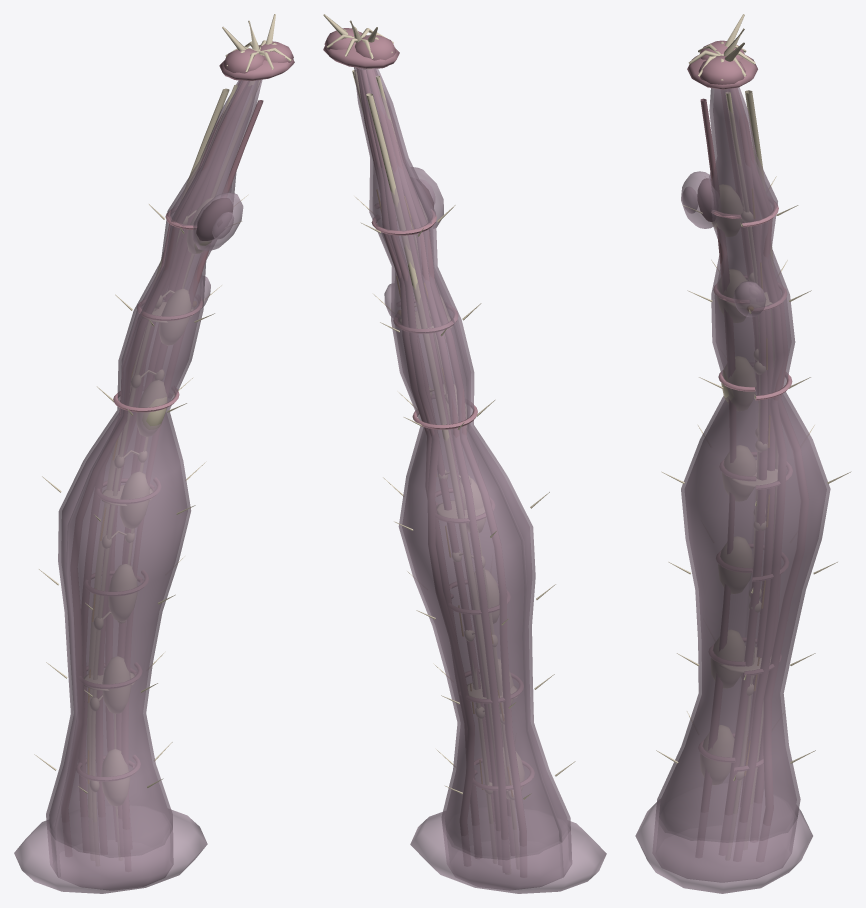
The model's file is gang_remnant.glb.
The picture shows the model from 3 angles, left to right: view 1: azimuth 30°, elevation 25°; view 2: azimuth 150°, elevation 25°; view 3: azimuth 270°, elevation 25°; orthographic projection. The views are drawn at different scales.
Visible parts, largest first — view 1: MEMBRANE_epithelial_shell, MUSCLE, MEMBRANE_root_collar, PRESSURE, VASCULAR_dorsal_channel, NERVE, DIGESTIVE_intake_groove, OCELLUS_cornea, GANGLION, PIGMENT_retinal_cup, CILIUM, TIP_adhesive_disk (+1 smaller); view 2: MEMBRANE_epithelial_shell, MUSCLE, MEMBRANE_root_collar, DIGESTIVE_intake_groove, NERVE, PRESSURE, CILIUM, TIP_adhesive_disk, OCELLUS_cornea, TIP_probing_lobe, COLLAGEN; view 3: MEMBRANE_epithelial_shell, MUSCLE, MEMBRANE_root_collar, PRESSURE, VASCULAR_dorsal_channel, OCELLUS_cornea, NERVE, DIGESTIVE_intake_groove, TIP_probing_lobe.001, STATOCYST_chamber, CILIUM, TIP_adhesive_disk (+3 smaller).
Boxes of the visible parts, bbox=[...] form: MEMBRANE_epithelial_shell: bbox=[46, 79, 262, 890]; MUSCLE: bbox=[61, 80, 251, 822]; MEMBRANE_root_collar: bbox=[14, 809, 207, 893]; PRESSURE: bbox=[101, 198, 212, 806]; VASCULAR_dorsal_channel: bbox=[121, 100, 263, 829]; NERVE: bbox=[91, 80, 260, 822]; DIGESTIVE_intake_groove: bbox=[87, 88, 229, 817]; OCELLUS_cornea: bbox=[192, 192, 243, 250]; GANGLION: bbox=[90, 216, 187, 791]; PIGMENT_retinal_cup: bbox=[196, 198, 233, 240]; CILIUM: bbox=[34, 194, 248, 793]; TIP_adhesive_disk: bbox=[219, 48, 294, 80]; MEMBRANE_epithelial_shell: bbox=[354, 67, 571, 890]; MUSCLE: bbox=[356, 68, 534, 846]; MEMBRANE_root_collar: bbox=[410, 811, 606, 893]; DIGESTIVE_intake_groove: bbox=[366, 93, 498, 792]; NERVE: bbox=[352, 70, 516, 829]; PRESSURE: bbox=[420, 203, 524, 798]; CILIUM: bbox=[354, 196, 575, 799]; TIP_adhesive_disk: bbox=[323, 35, 399, 68]; OCELLUS_cornea: bbox=[411, 167, 443, 227]; TIP_probing_lobe: bbox=[355, 35, 396, 68]; COLLAGEN: bbox=[398, 311, 517, 698]; MEMBRANE_epithelial_shell: bbox=[652, 87, 830, 882]; MUSCLE: bbox=[698, 88, 808, 825]; MEMBRANE_root_collar: bbox=[635, 800, 812, 893]; PRESSURE: bbox=[700, 184, 756, 784]; VASCULAR_dorsal_channel: bbox=[700, 98, 735, 812]; OCELLUS_cornea: bbox=[681, 171, 717, 228]; NERVE: bbox=[725, 92, 760, 813]; DIGESTIVE_intake_groove: bbox=[745, 90, 778, 804]; TIP_probing_lobe.001: bbox=[698, 55, 745, 84]; STATOCYST_chamber: bbox=[733, 281, 766, 317]; CILIUM: bbox=[656, 176, 851, 780]; TIP_adhesive_disk: bbox=[687, 55, 757, 89].
Size of the model in its own units: 0.2567 by 0.7415 by 0.158.
